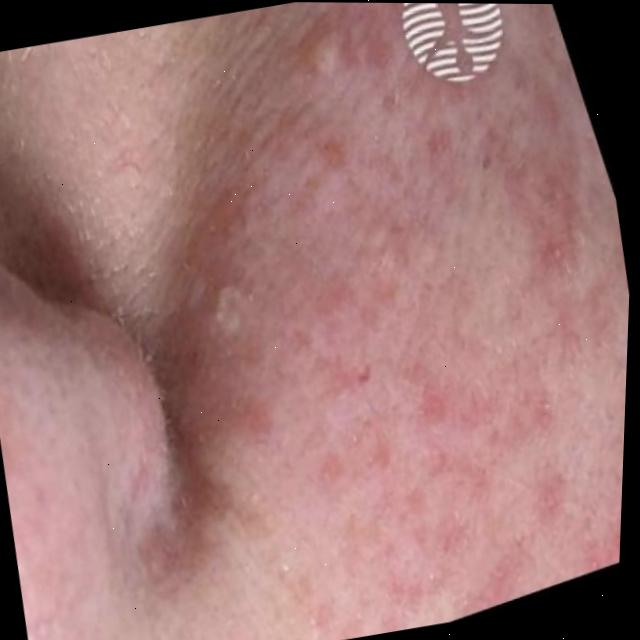Eczema: (98, 1, 633, 619)
